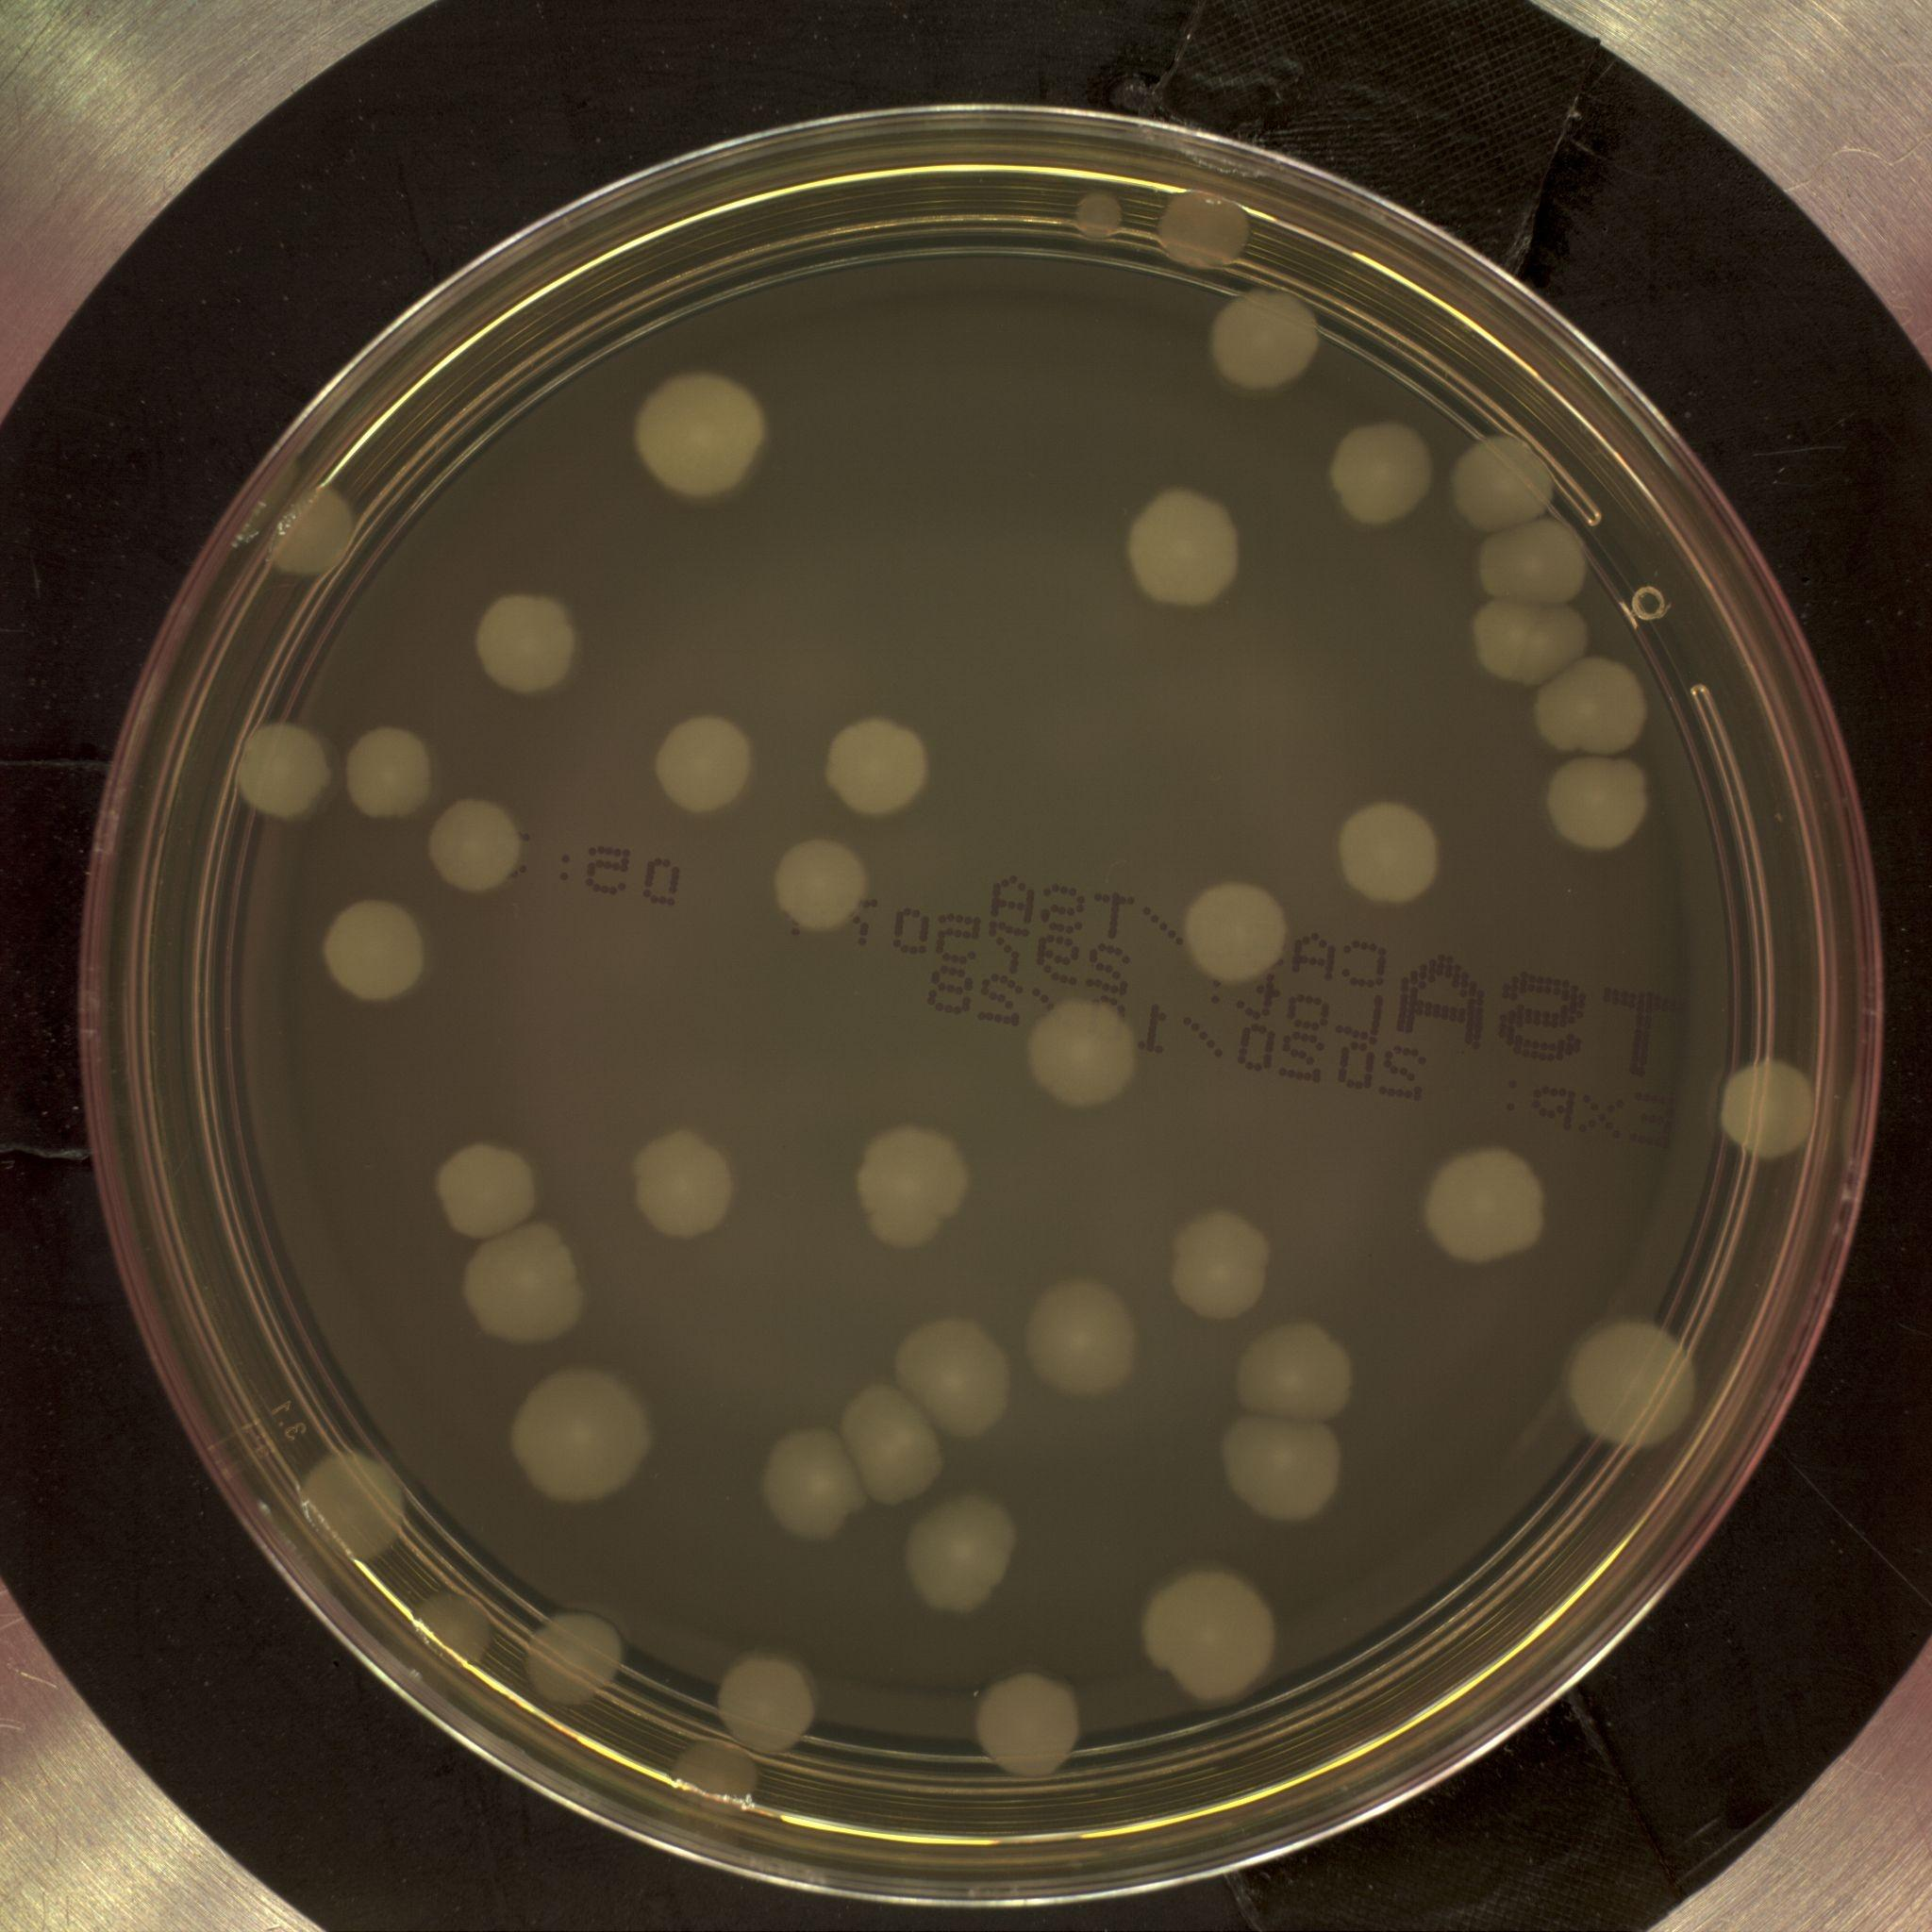e. coli: (1136, 1568, 1277, 1707), (1560, 1316, 1695, 1447), (633, 372, 764, 502), (510, 1375, 646, 1497), (464, 1223, 586, 1345), (1422, 1146, 1548, 1261), (895, 1320, 1012, 1440), (855, 1123, 964, 1247), (1129, 488, 1237, 607), (1023, 1279, 1139, 1387), (1221, 1417, 1343, 1518), (1237, 1320, 1352, 1424), (1212, 290, 1327, 395), (1035, 1000, 1143, 1109), (759, 1426, 865, 1536), (911, 1500, 1017, 1610), (1539, 653, 1649, 759), (840, 1387, 939, 1504), (1182, 879, 1284, 991), (324, 897, 432, 1001), (474, 591, 579, 697), (304, 1451, 407, 1559), (973, 1675, 1079, 1778), (826, 717, 936, 814), (1338, 796, 1437, 902), (1175, 1207, 1269, 1318), (1479, 518, 1591, 612), (1543, 755, 1654, 849), (632, 1136, 732, 1238), (1449, 435, 1553, 531), (653, 715, 752, 814), (1330, 419, 1428, 520), (1477, 600, 1592, 685), (770, 840, 869, 938), (437, 1145, 538, 1240), (527, 1608, 623, 1707), (720, 1656, 819, 1750), (1723, 1060, 1815, 1159), (237, 722, 329, 817), (430, 803, 522, 893), (265, 485, 354, 575), (1157, 191, 1251, 272), (349, 729, 428, 819), (667, 1736, 757, 1813), (412, 1592, 492, 1674), (1079, 193, 1125, 244)
